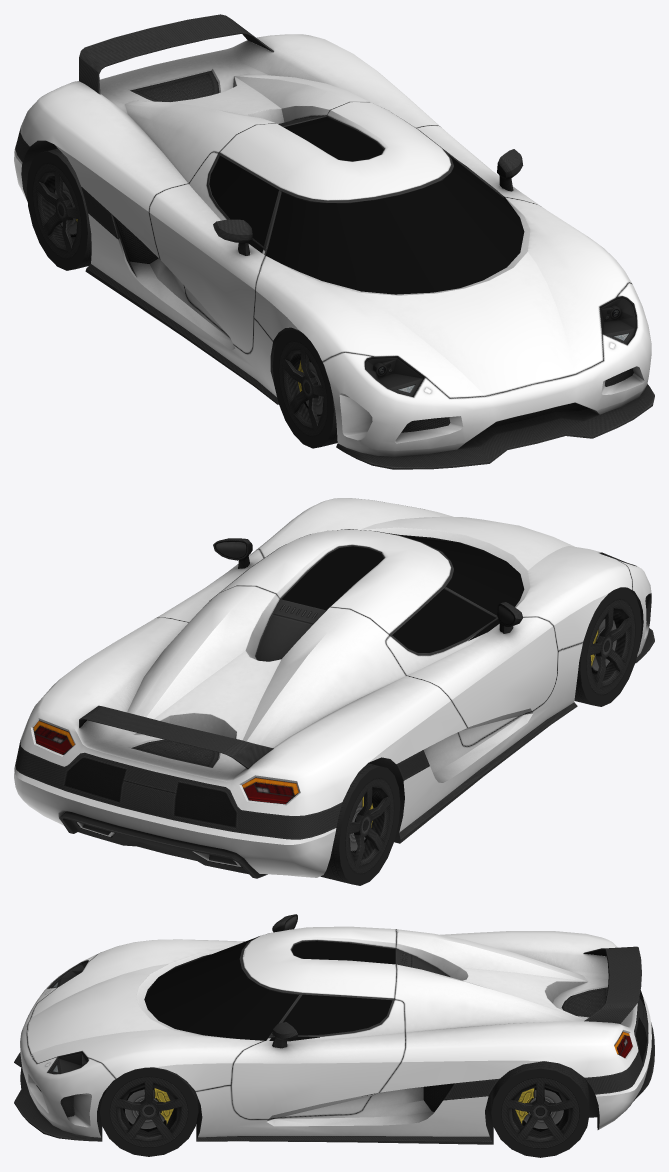
Rendered from KGAgera.glb.
3 views of the same model, one above another, from view 1: azimuth 30°, elevation 25°; view 2: azimuth 150°, elevation 25°; view 3: azimuth 270°, elevation 25° (orthographic). The views are drawn at different scales.
Visible parts, largest first — view 1: model_4, model_5, model_3, model_2; view 2: model_4, model_3, model_2, model_5, model_1; view 3: model_4, model_3, model_5, model_2.
Part boxes in pixels (x1,y1,x2,y2): model_4: [14, 34, 651, 456]; model_5: [209, 117, 634, 396]; model_3: [15, 14, 654, 469]; model_2: [26, 148, 337, 448]; model_4: [14, 498, 651, 877]; model_3: [15, 529, 654, 878]; model_2: [320, 587, 641, 885]; model_5: [281, 529, 523, 652]; model_1: [33, 720, 298, 804]; model_4: [20, 926, 651, 1137]; model_3: [14, 914, 654, 1144]; model_5: [49, 937, 395, 1073]; model_2: [99, 1061, 589, 1157].
Size of the model in its own units: 2.75 by 1.54 by 6.02.
Materials: 6 (4 with a texture image).
